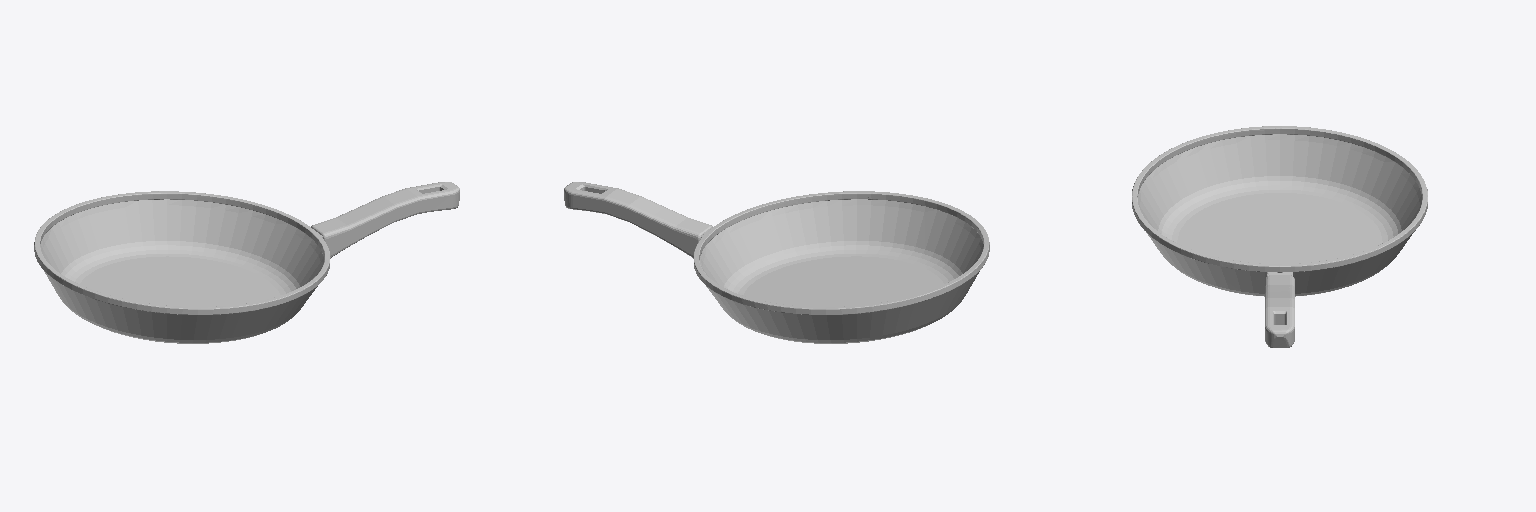
3 renders of one model, left to right at view 1: azimuth 30°, elevation 25°; view 2: azimuth 150°, elevation 25°; view 3: azimuth 270°, elevation 25°, orthographic.
Visible parts, largest first — view 1: fryingpan; view 2: fryingpan; view 3: fryingpan.
Part boxes in pixels (left/top/right/bottom): fryingpan: left=34, top=182, right=459, bottom=343; fryingpan: left=564, top=182, right=989, bottom=343; fryingpan: left=1132, top=126, right=1427, bottom=347.
Bounding box in the file's own units: 0.236 × 0.0355 × 0.15.